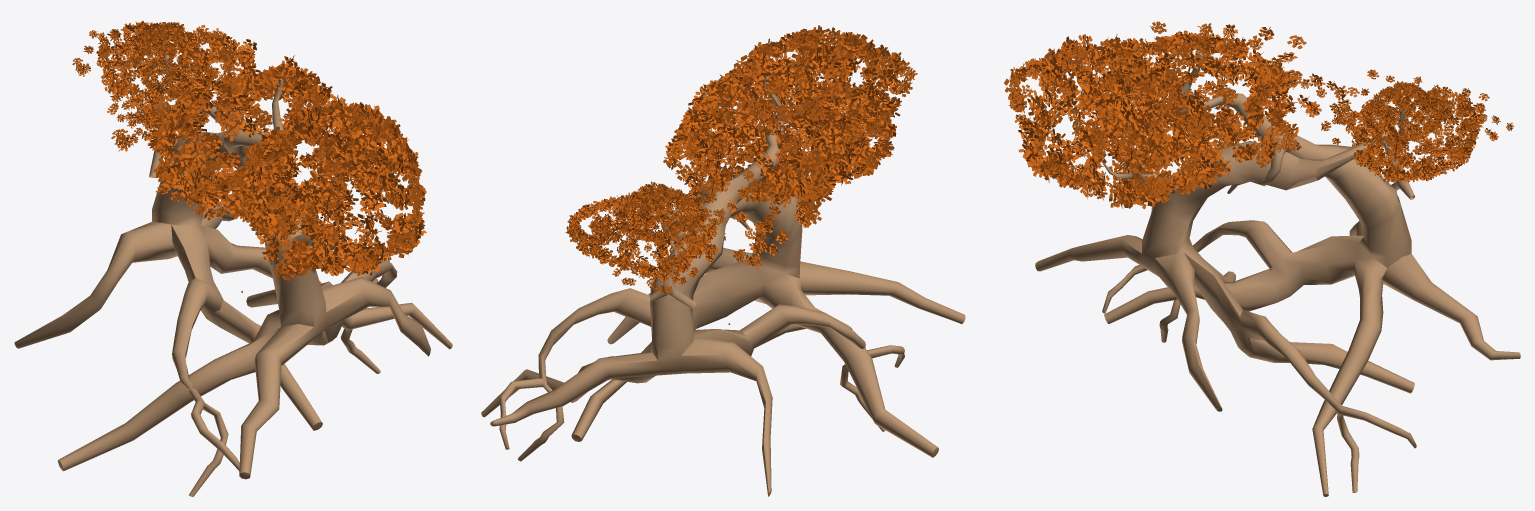
Rendered from Sacred_Tree_1.fbx.
3 renders of one model, left to right at view 1: azimuth 30°, elevation 25°; view 2: azimuth 150°, elevation 25°; view 3: azimuth 270°, elevation 25°, orthographic. The views are drawn at different scales.
Visible parts, largest first — view 1: All Leaf (Sacred tree), Main_Tree.002, Main_Tree; view 2: All Leaf (Sacred tree), Main_Tree, Main_Tree.002; view 3: All Leaf (Sacred tree), Main_Tree.002, Main_Tree.
Part boxes in pixels (x1,y1,x2,y2): All Leaf (Sacred tree): (72,21,426,292); Main_Tree.002: (14,78,452,496); Main_Tree: (57,54,430,479); All Leaf (Sacred tree): (565,25,917,324); Main_Tree: (499,176,965,461); Main_Tree.002: (481,76,904,496); All Leaf (Sacred tree): (1004,21,1514,270); Main_Tree.002: (1102,50,1520,496); Main_Tree: (1035,109,1416,492).
Size of the model in its own units: 8476 by 7867 by 9657.
2 materials, 1 textured.
